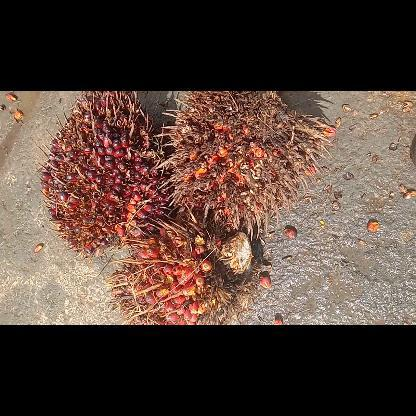TBS masak: (36, 91, 172, 259), (103, 202, 255, 324)
Terlalu masak: (154, 91, 333, 239)
